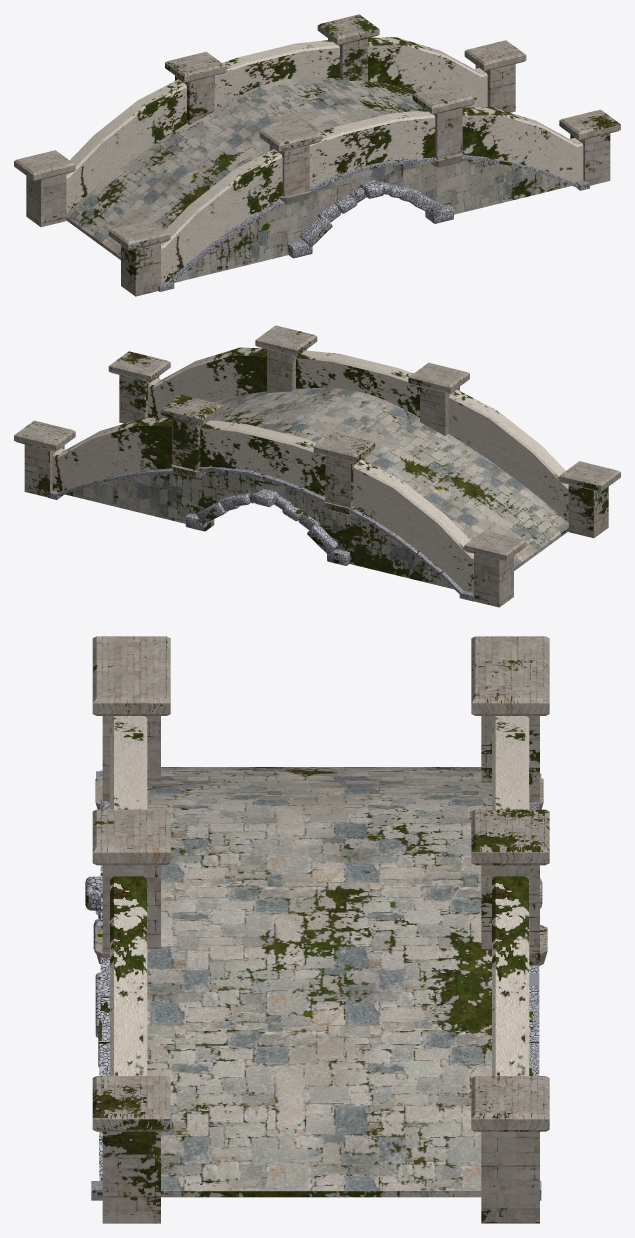
Rendered from stone_bridge.glb.
3 views of the same model, one above another, from view 1: azimuth 30°, elevation 25°; view 2: azimuth 150°, elevation 25°; view 3: azimuth 270°, elevation 25° (orthographic). The views are drawn at different scales.
Parts seen in each view (by area): view 1: Stone Road, Right_guard_rail, Left_guard_rail, Left_slab001, Right_Keystone, Right_slab001, Right_slab002, Right_slab003, Right_slab004, Left_slab004, Left_slab002, Left_slab003 (+1 smaller); view 2: Stone Road, Left_guard_rail, Right_guard_rail, Right_slab001, Left_slab001, Left_slab003, Left_KeyStone, Left_slab002, Left_slab004, Right_slab004, Right_slab002, Right_slab003 (+1 smaller); view 3: Stone Road, Right_guard_rail, Left_guard_rail, Right_slab004, Left_slab004, Left_slab003, Right_slab003, Right_slab002, Left_slab002, Right_ ringstone, Right_slab001, Left_slab001 (+2 smaller).
Part boxes in pixels (left/top/right/bottom): Stone Road: left=66, top=77, right=571, bottom=282; Right_guard_rail: left=161, top=107, right=583, bottom=282; Left_guard_rail: left=66, top=37, right=487, bottom=213; Left_slab001: left=14, top=150, right=75, bottom=227; Right_Keystone: left=287, top=180, right=453, bottom=258; Right_slab001: left=108, top=219, right=170, bottom=296; Right_slab002: left=259, top=121, right=321, bottom=204; Right_slab003: left=412, top=83, right=474, bottom=167; Right_slab004: left=559, top=109, right=620, bottom=185; Left_slab004: left=464, top=40, right=526, bottom=112; Left_slab002: left=165, top=51, right=226, bottom=125; Left_slab003: left=317, top=14, right=379, bottom=82; Stone Road: left=65, top=388, right=568, bottom=589; Left_guard_rail: left=52, top=417, right=473, bottom=593; Right_guard_rail: left=148, top=347, right=568, bottom=522; Right_slab001: left=559, top=461, right=620, bottom=538; Left_slab001: left=464, top=530, right=526, bottom=607; Left_slab003: left=160, top=394, right=222, bottom=478; Left_KeyStone: left=185, top=488, right=350, bottom=565; Left_slab002: left=313, top=432, right=375, bottom=515; Left_slab004: left=14, top=420, right=75, bottom=497; Right_slab004: left=108, top=351, right=170, bottom=423; Right_slab002: left=408, top=362, right=469, bottom=436; Right_slab003: left=255, top=325, right=317, bottom=393; Stone Road: left=147, top=767, right=491, bottom=1197; Right_guard_rail: left=110, top=716, right=147, bottom=1075; Left_guard_rail: left=492, top=716, right=529, bottom=1075; Right_slab004: left=92, top=1076, right=170, bottom=1223; Left_slab004: left=471, top=1076, right=549, bottom=1223; Left_slab003: left=471, top=809, right=549, bottom=965; Right_slab003: left=92, top=809, right=170, bottom=964; Right_slab002: left=92, top=660, right=170, bottom=809; Left_slab002: left=471, top=660, right=549, bottom=809; Right_ ringstone: left=91, top=770, right=109, bottom=1200; Right_slab001: left=92, top=636, right=170, bottom=661; Left_slab001: left=471, top=636, right=549, bottom=661.
Size of the model in its own units: 2.91 by 0.6755 by 1.19.
Materials: 4 (4 with a texture image).
